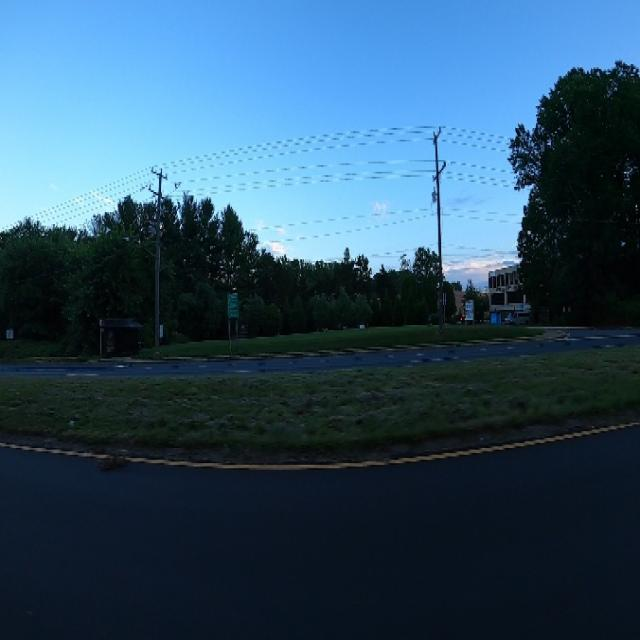cars: (462, 310, 467, 327)
